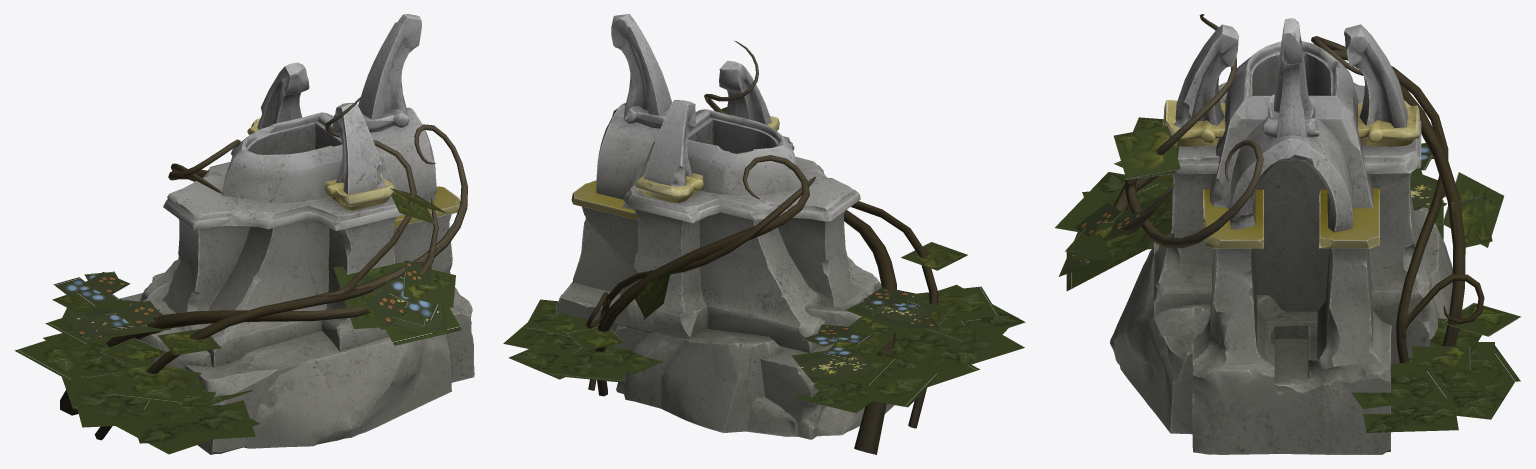
File: Radiant_Ranged.fbx
3 renders of one model, left to right at view 1: azimuth 30°, elevation 25°; view 2: azimuth 150°, elevation 25°; view 3: azimuth 270°, elevation 25°, orthographic. The views are drawn at different scales.
Visible parts, largest first — view 1: radiant_ranged; view 2: radiant_ranged; view 3: radiant_ranged.
Part boxes in pixels (x1=…): radiant_ranged: x1=15, y1=14, x2=474, y2=454; radiant_ranged: x1=503, y1=14, x2=1025, y2=454; radiant_ranged: x1=1055, y1=14, x2=1520, y2=454.
Size of the model in its own units: 444 by 349 by 338.
